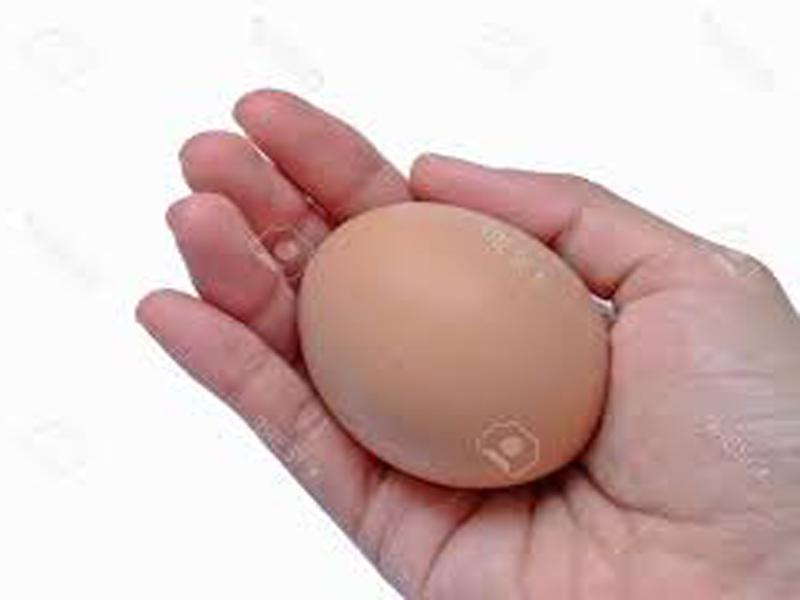Eggs: (297, 202, 611, 485)
